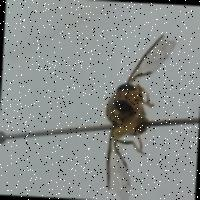Oriental-fruit-fly: (89, 20, 184, 200)
